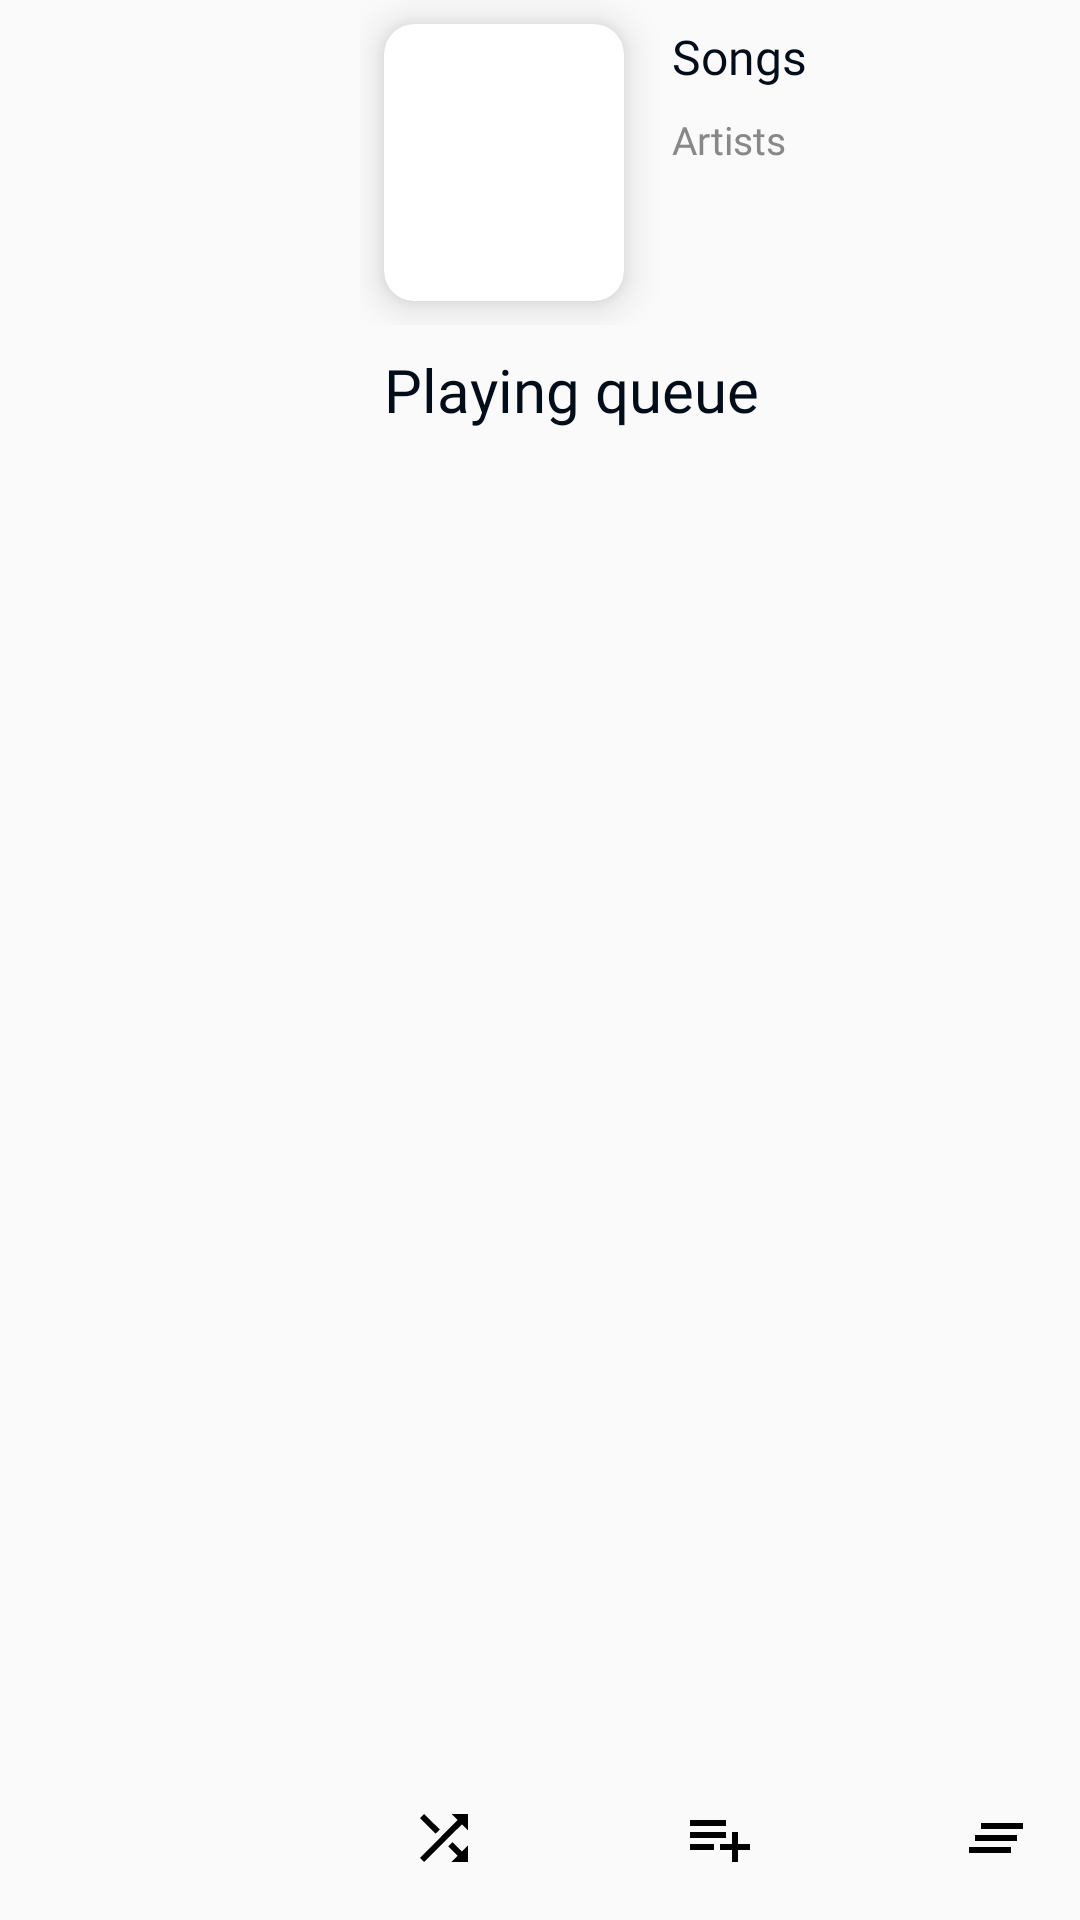

Screen size 1080*1920. Icon name, then its box in pixels as (x1, y1, x2, y2):
clear all: (969, 1823, 1023, 1853)
playlist add: (690, 1820, 750, 1862)
shuffle: (420, 1814, 468, 1862)
